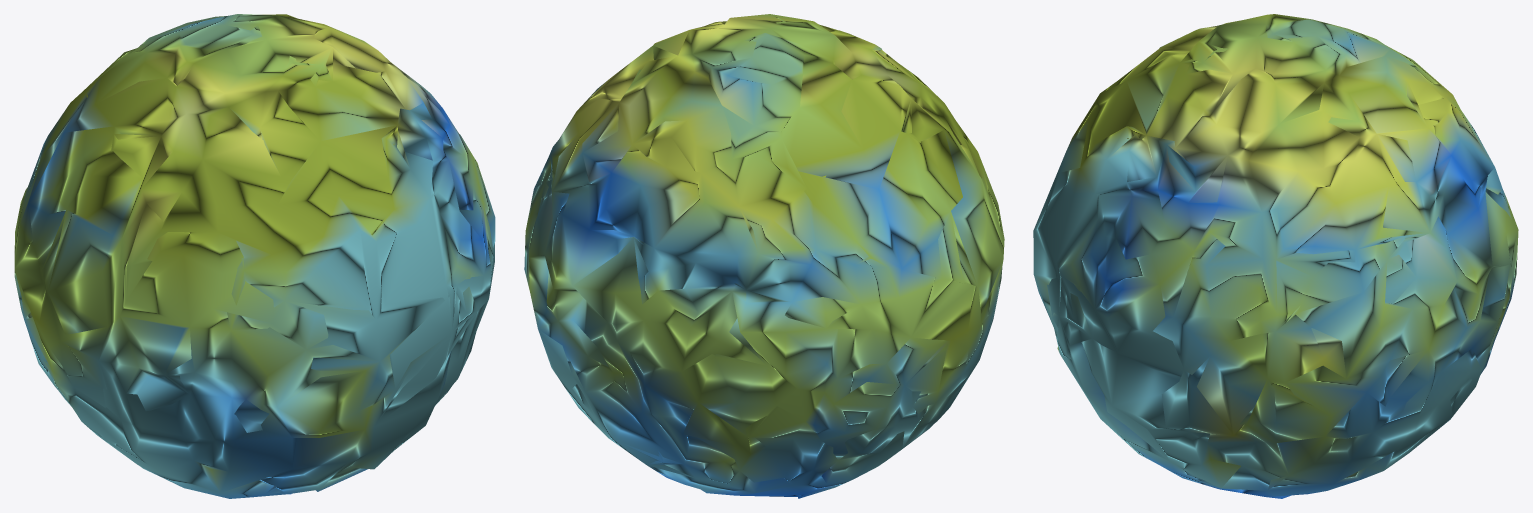
The model's file is gen3d-globe-lod0.glb.
3 views of the same model, side by side, from view 1: azimuth 30°, elevation 25°; view 2: azimuth 150°, elevation 25°; view 3: azimuth 270°, elevation 25° (orthographic).
Parts seen in each view (by area): view 1: part_0; view 2: part_0; view 3: part_0.
Boxes of the visible parts, bbox=[...] form: part_0: bbox=[14, 14, 495, 498]; part_0: bbox=[524, 14, 1004, 498]; part_0: bbox=[1033, 14, 1518, 498].
Size of the model in its own units: 0.9793 by 0.991 by 0.9816.
